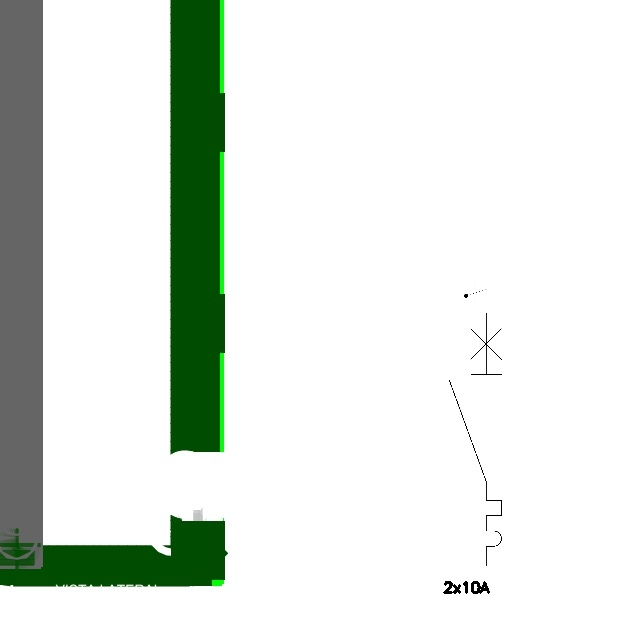interruptor_termomagnetico: (443, 307, 508, 572)
